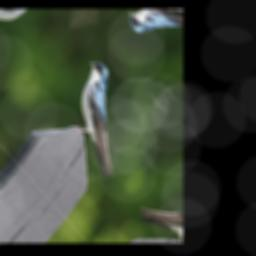Swallow: (48, 55, 155, 183)
